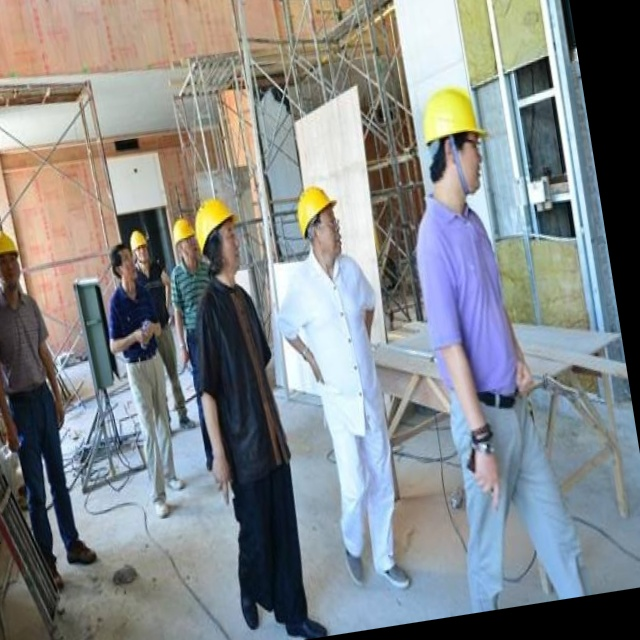Con_Casco: (414, 82, 496, 196), (293, 182, 347, 265)
